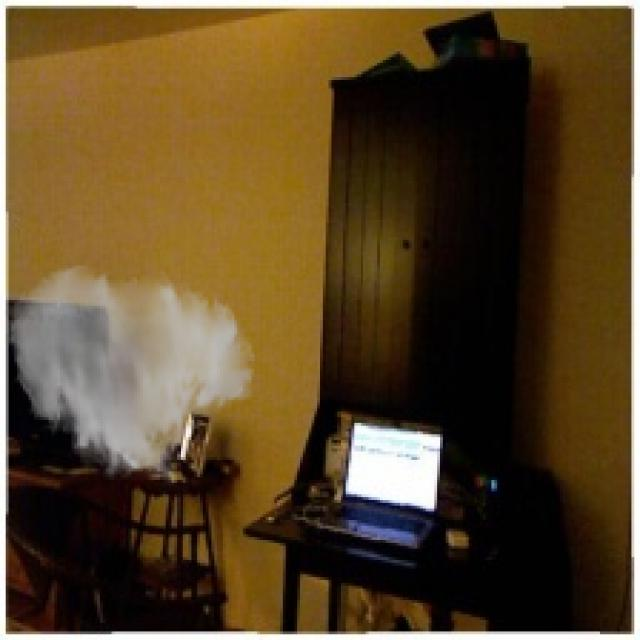smoke: (3, 263, 257, 486)
